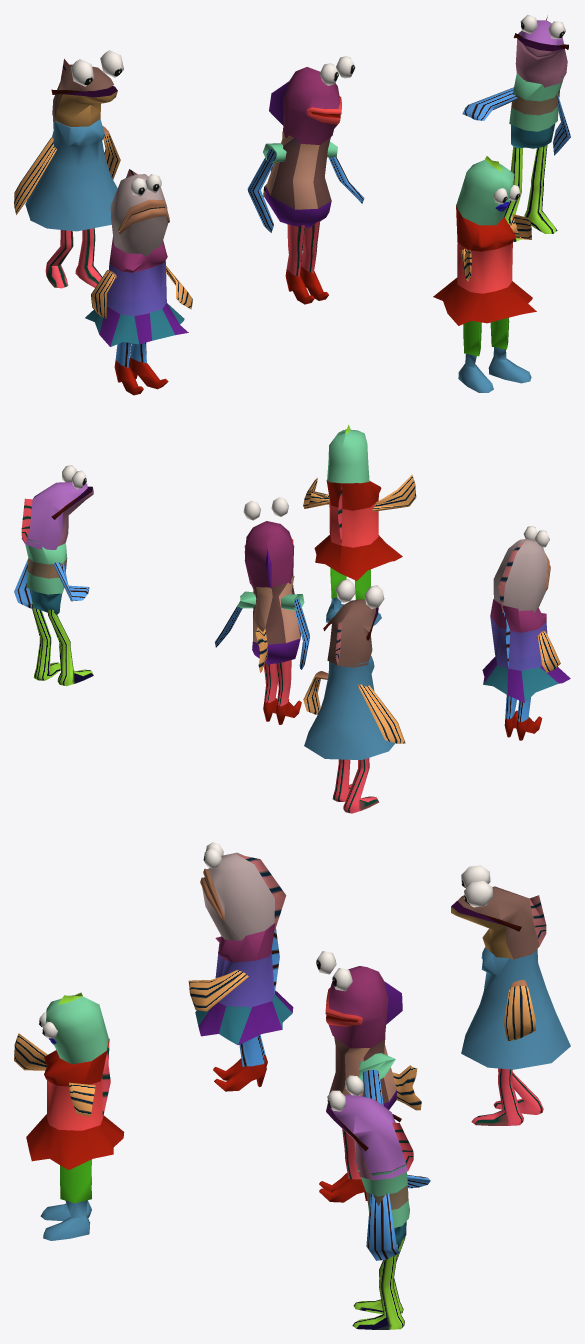
The model's file is crowd01.obj.
3 views of the same model, one above another, from view 1: azimuth 30°, elevation 25°; view 2: azimuth 150°, elevation 25°; view 3: azimuth 270°, elevation 25° (orthographic). The views are drawn at different scales.
Visible parts, largest first — view 1: 3D_Object_1; view 2: 3D_Object_1; view 3: 3D_Object_1.
Part boxes in pixels (x1=…): 3D_Object_1: x1=14, y1=14, x2=570, y2=395; 3D_Object_1: x1=14, y1=425, x2=570, y2=813; 3D_Object_1: x1=14, y1=842, x2=570, y2=1329.
Bounding box in the file's own units: 4.29 × 1.8 × 3.6.
Materials: 1 (1 with a texture image).
